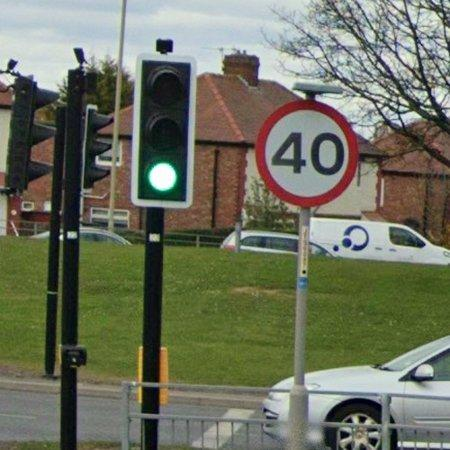chimneys: (223, 48, 261, 86), (211, 47, 226, 54)
